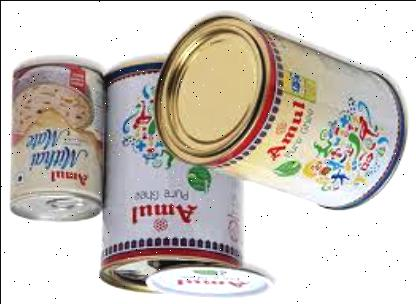Can: (156, 17, 406, 210), (102, 64, 240, 294), (12, 63, 104, 221)
